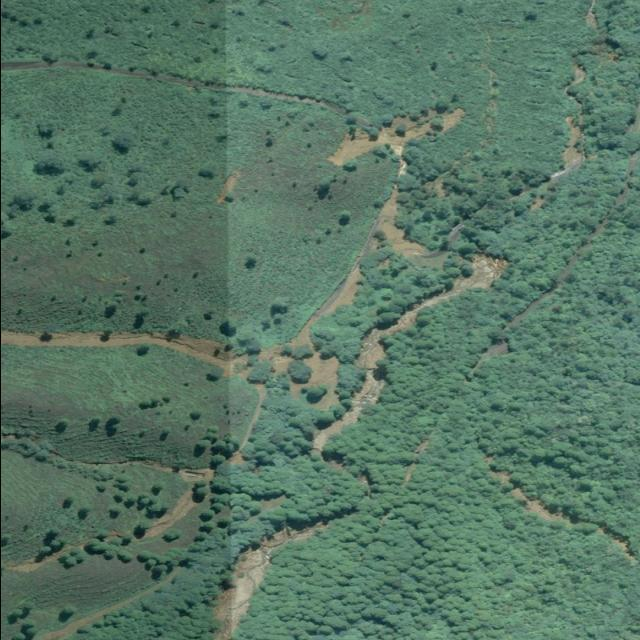landslide: (214, 523, 325, 640), (288, 354, 338, 409), (274, 357, 300, 373)
